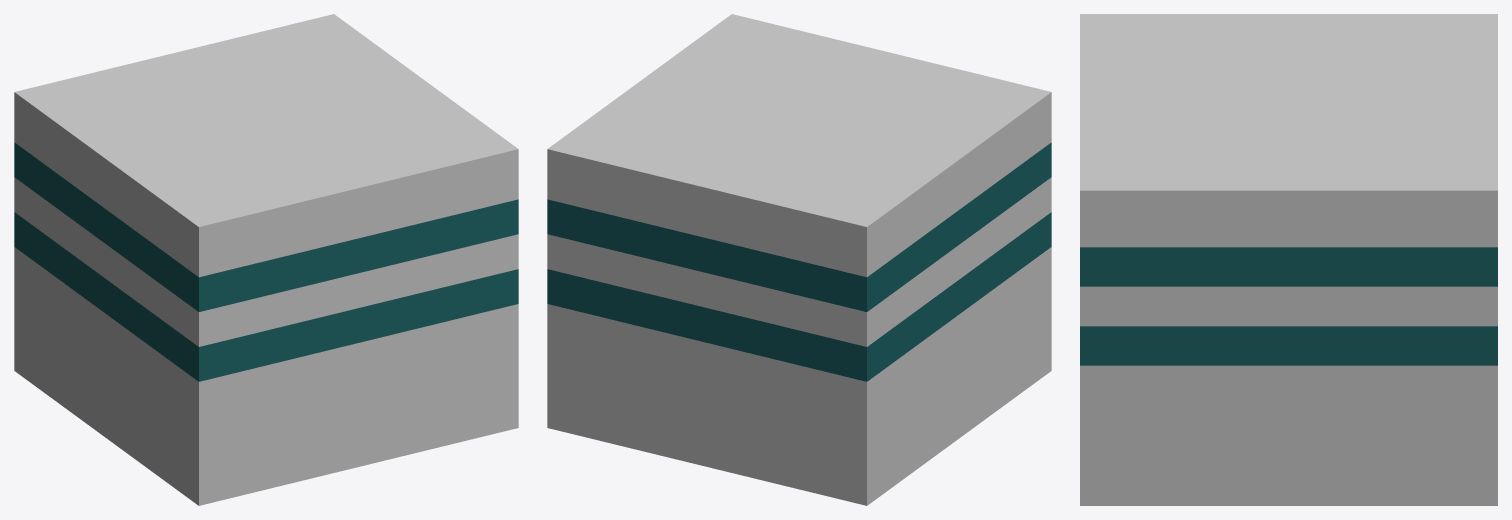
Rendered from Terminal_Middle.fbx.
3 renders of one model, left to right at view 1: azimuth 30°, elevation 25°; view 2: azimuth 150°, elevation 25°; view 3: azimuth 270°, elevation 25°, orthographic. The views are drawn at different scales.
Visible parts, largest first — view 1: Terminal_Middle; view 2: Terminal_Middle; view 3: Terminal_Middle.
Boxes of the visible parts, x1,y1,x2,y2 form: Terminal_Middle: (14,14,518,505); Terminal_Middle: (547,14,1051,505); Terminal_Middle: (1080,14,1497,505).
Bounding box in the file's own units: 90 × 75 × 90.
